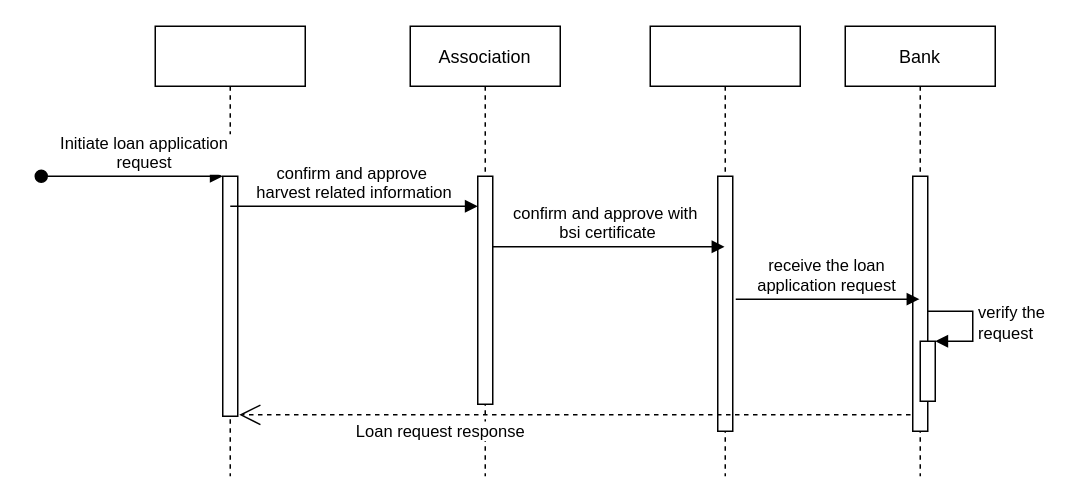
The diagram is 1077 pixels wide and 503 high, and some of its shapes have lost their labels. The box of each missing label's shape, as (x1, y1, x2, y2) in pixels:
BSI: (649, 25, 800, 476)
Farmer: (154, 25, 305, 476)
